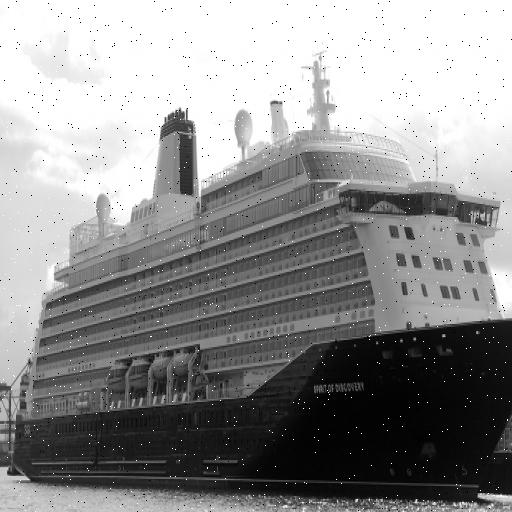cruises: (16, 35, 512, 512)
